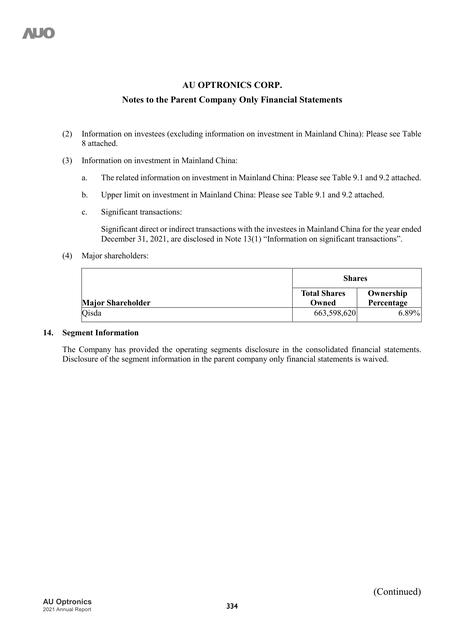box: (78, 264, 425, 326)
